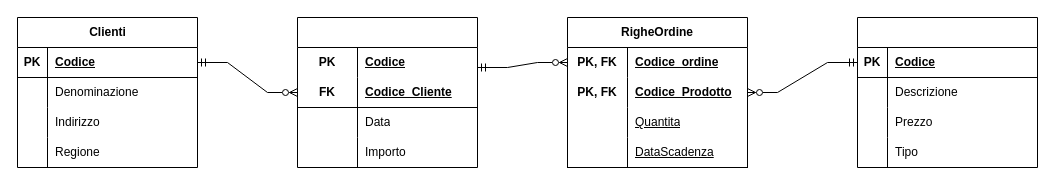
Image size: 1055x185. Some labels were removed from this diagram. The box of each missing label's shape, as (x1, y1, x2, y2) in pixels:
Ordini: (296, 16, 478, 168)
Prodotti: (856, 16, 1038, 168)
